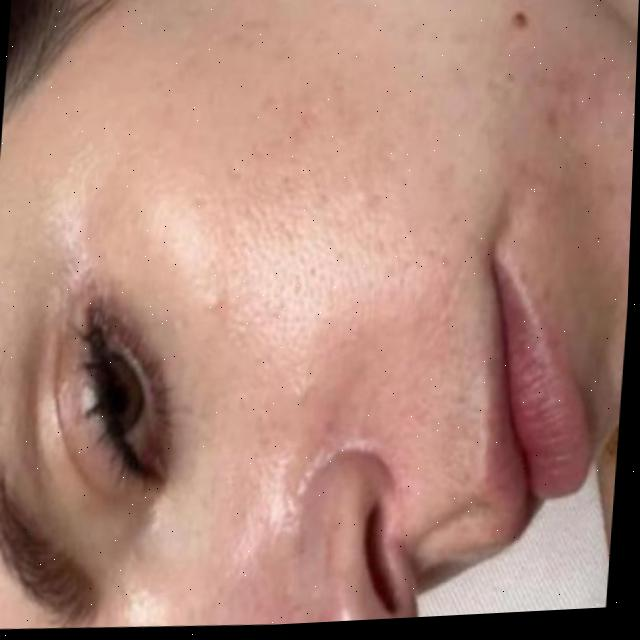Acne: (191, 0, 567, 333)
